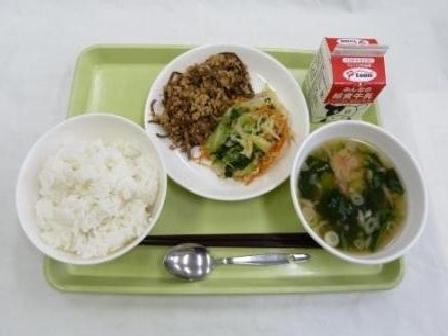Milk: (301, 30, 402, 133)
Rice: (22, 115, 175, 265)
Soups: (288, 117, 433, 266)
cooked food based on meat: (147, 51, 255, 158)
salad with sauce: (199, 91, 294, 185)
